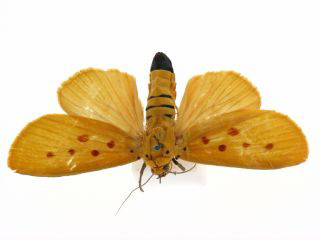Agape chloropyga: (3, 47, 309, 216)
moth: (1, 45, 307, 214)
